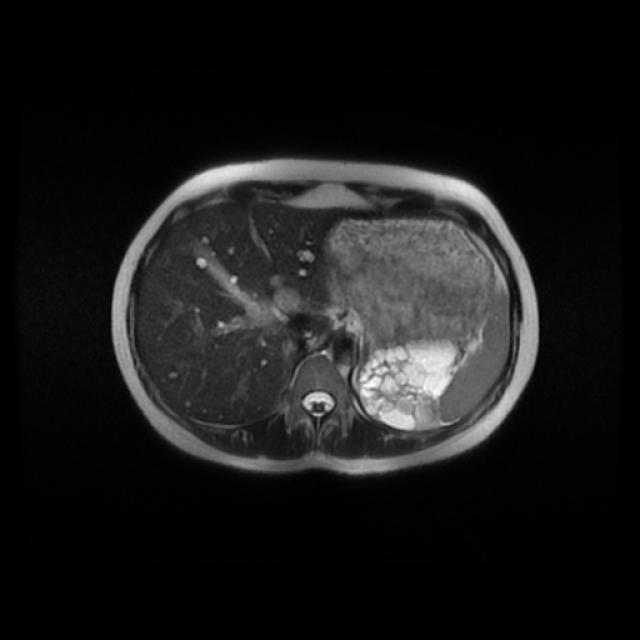sol: (361, 338, 462, 426)
